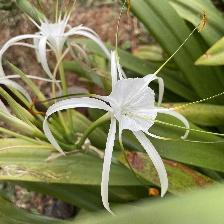spider lily: (102, 70, 168, 144)
